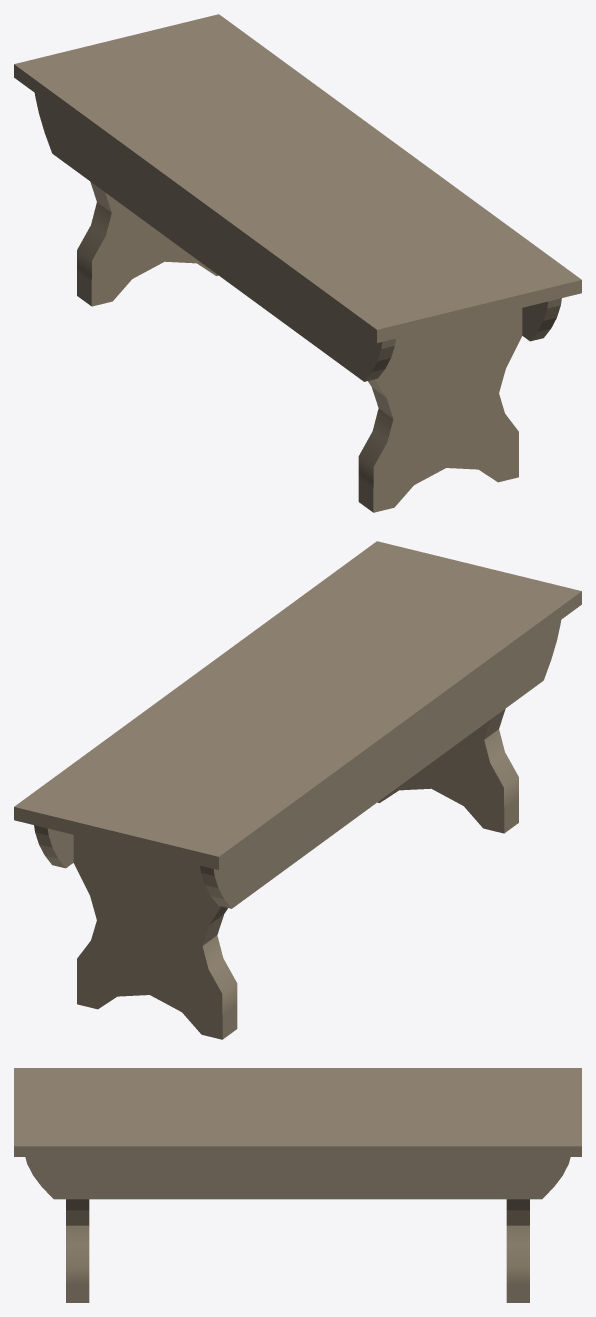
Rendered from tableBench.fbx.
3 views of the same model, one above another, from view 1: azimuth 30°, elevation 25°; view 2: azimuth 150°, elevation 25°; view 3: azimuth 270°, elevation 25° (orthographic). The views are drawn at different scales.
Visible parts, largest first — view 1: tableBench; view 2: tableBench; view 3: tableBench.
Part boxes in pixels (box(x1,y1,x2,y2)): tableBench: box(14, 14, 581, 512); tableBench: box(14, 541, 581, 1039); tableBench: box(14, 1068, 581, 1302).
Bounding box in the file's own units: 46.46 × 46.46 × 143.
